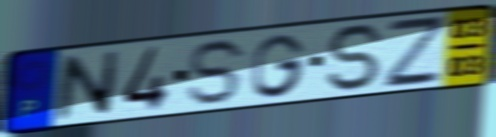4: (121, 44, 171, 113)
G: (249, 32, 308, 100)
N: (52, 48, 122, 122)
S: (187, 37, 251, 108), (325, 22, 388, 94)
Z: (382, 15, 446, 91)
